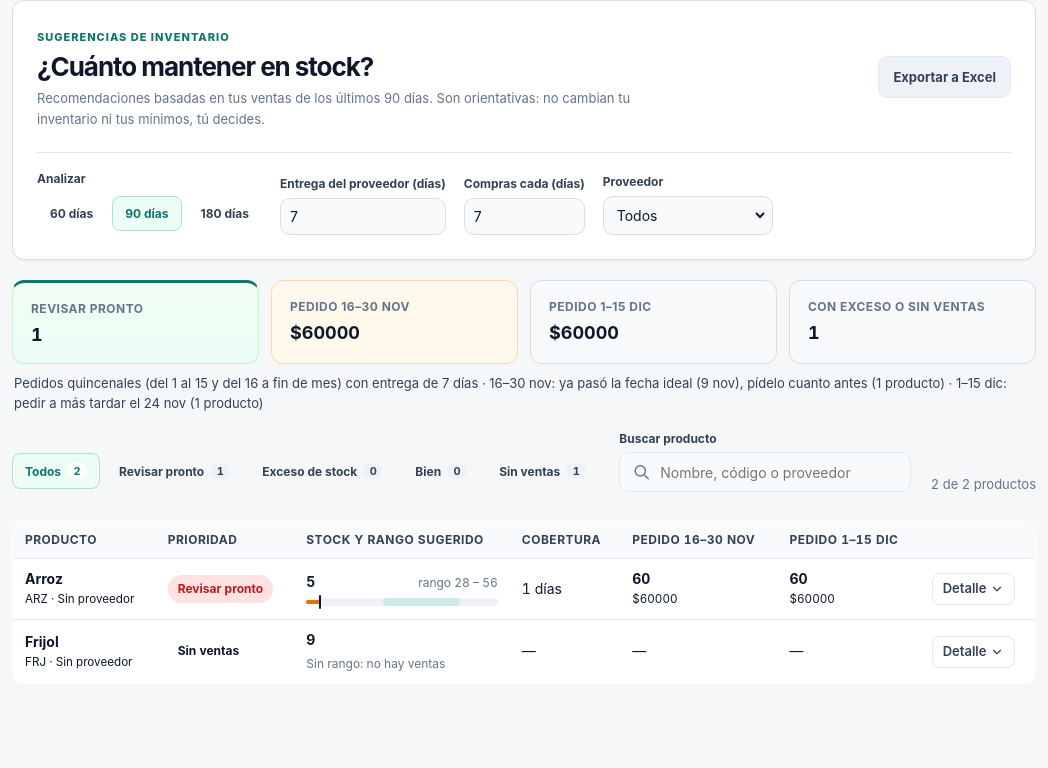
Scenario: inventory suggestions report › exports filters, units and blank ranges, and drops a stale file when filters change
Step 1. Click the button "Sin ventas 1" → (543, 471), box [486,453,599,489]
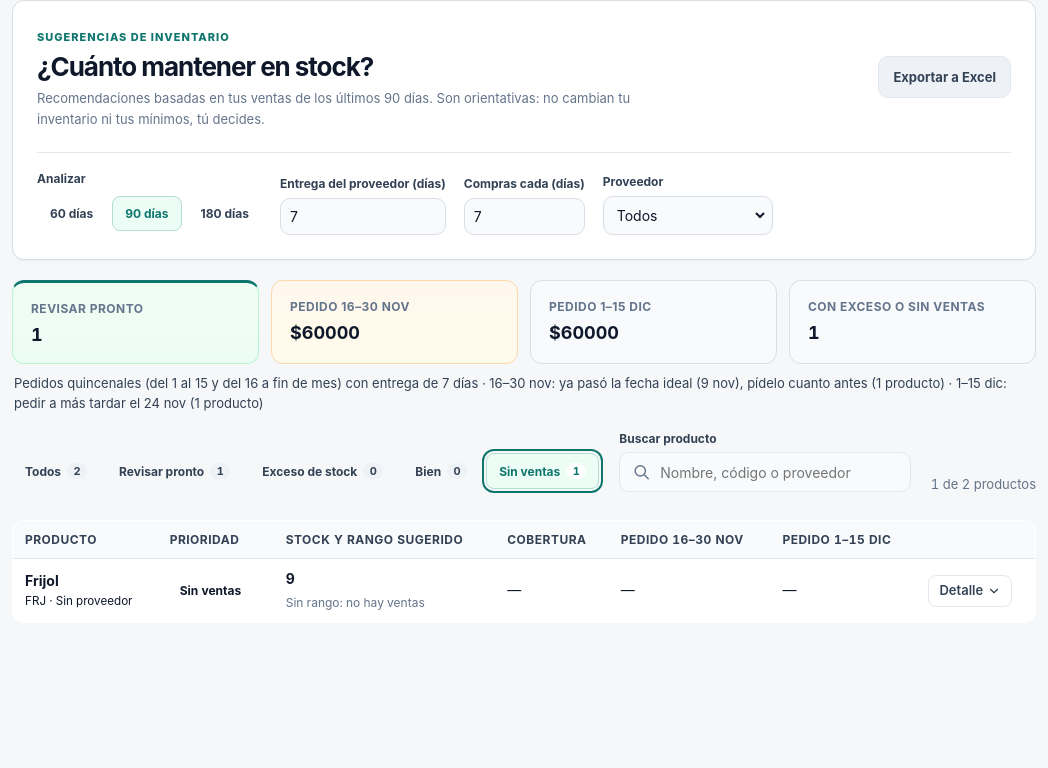
Step 2. Click the button "Exportar a Excel" → (945, 77), box [878,56,1011,98]
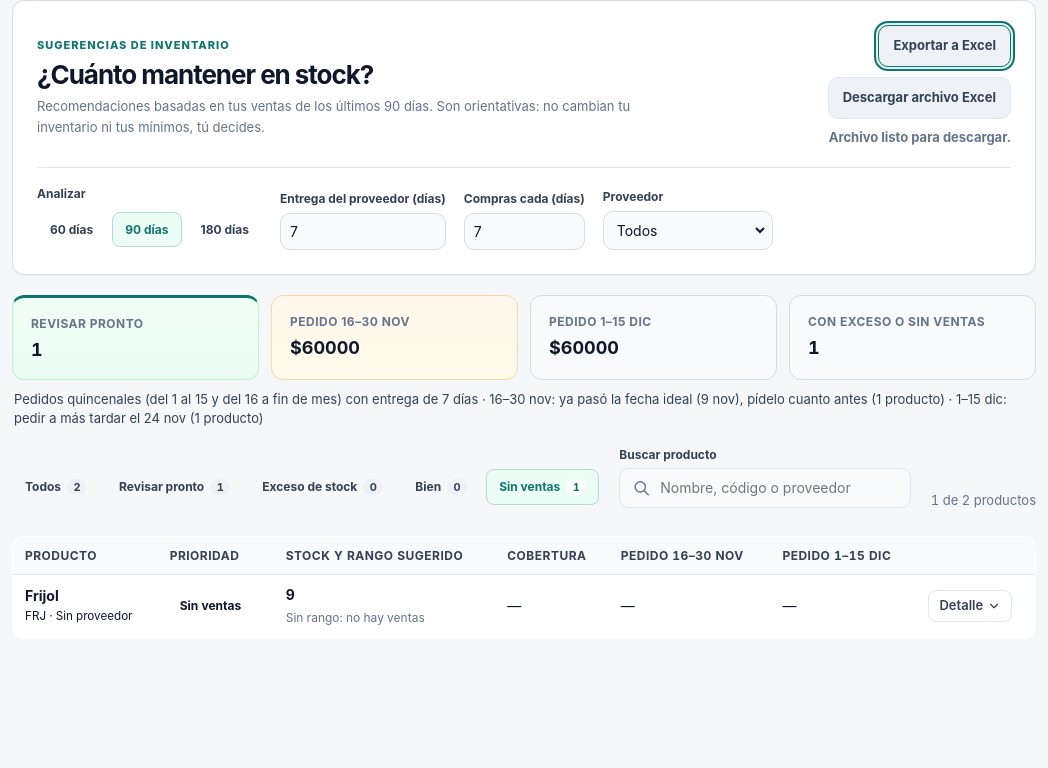
Step 3. Type "frijol" into the search field labelled "Buscar producto" → (765, 488), box [619,468,911,508]
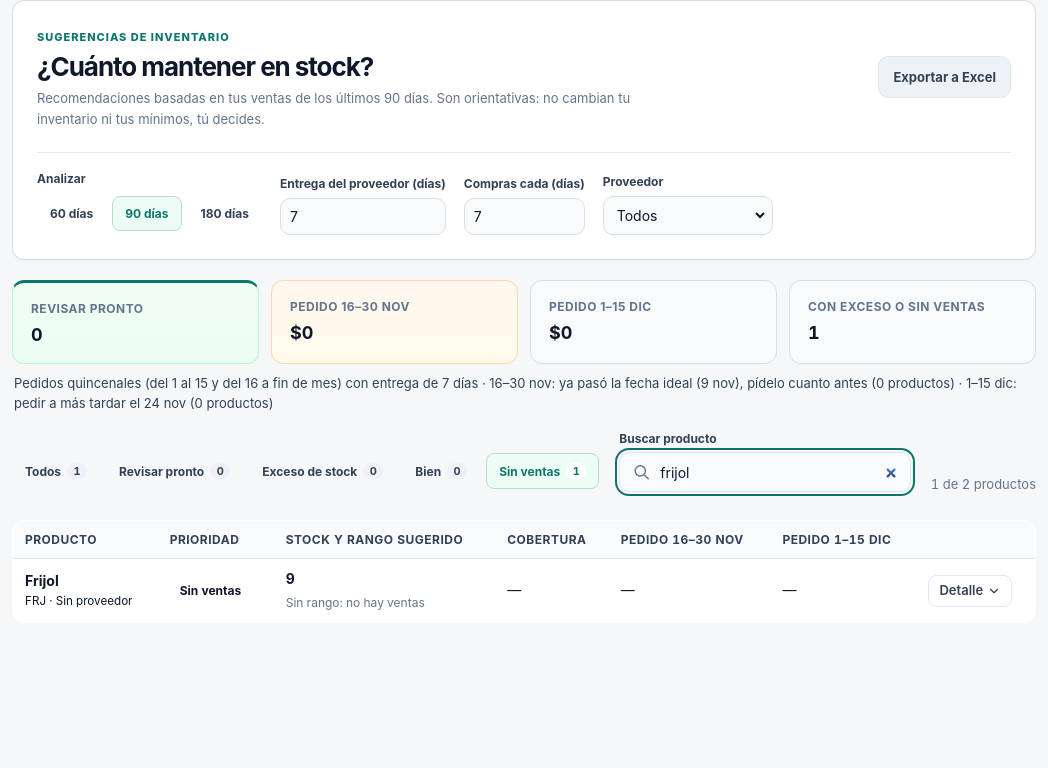
Expected: the link "Descargar archivo Excel" is gone
